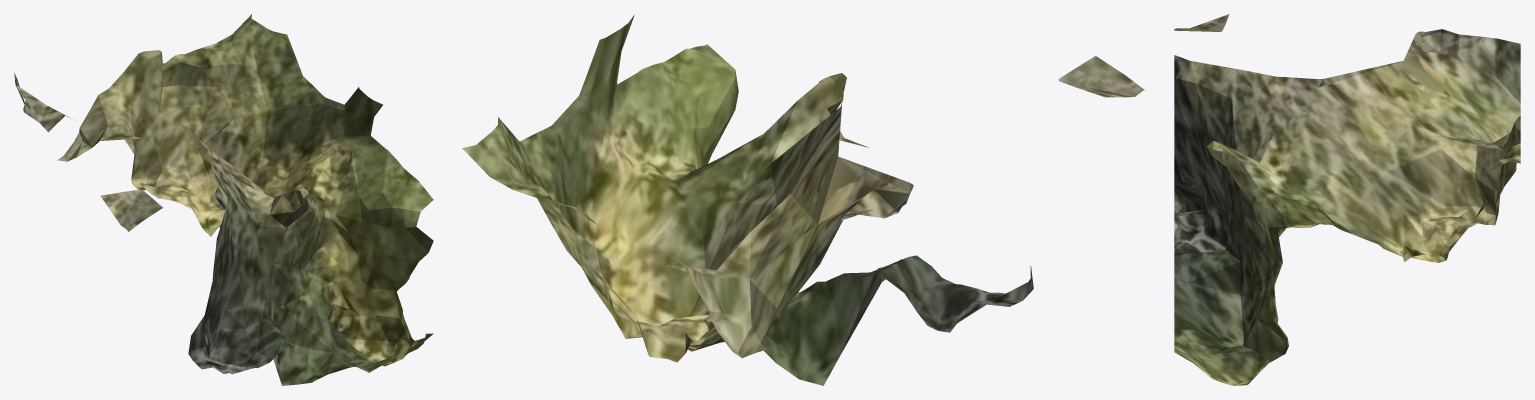
3 renders of one model, left to right at view 1: azimuth 30°, elevation 25°; view 2: azimuth 150°, elevation 25°; view 3: azimuth 270°, elevation 25°, orthographic. The views are drawn at different scales.
Size of the model in its own units: 2.95 by 2.24 by 2.95.
4 materials, 4 textured.
